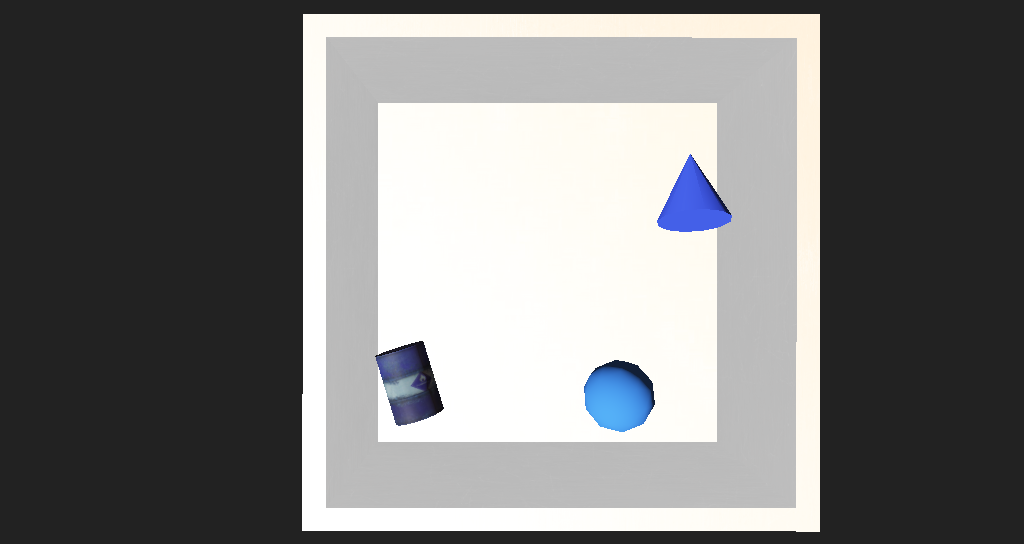cone: (347, 310, 421, 367)
cylinder: (600, 184, 667, 246)
sphere: (532, 320, 600, 367)
